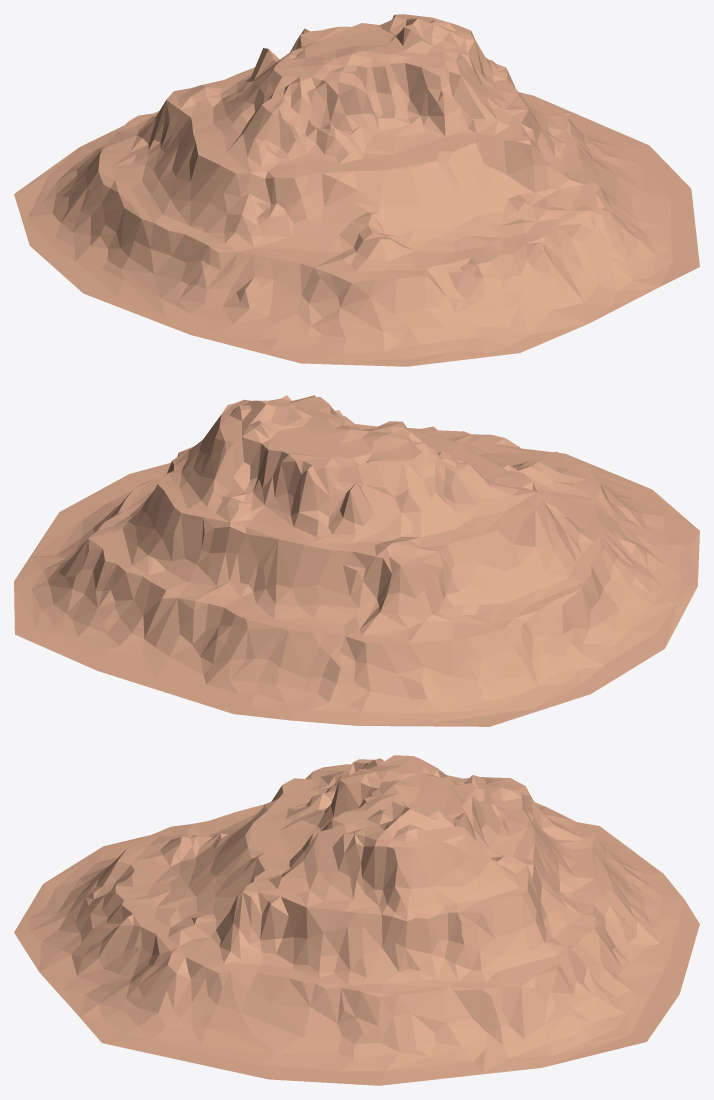
The model's file is MT_Mountain_L_b_25_LOD.fbx.
3 renders of one model, top to bottom at view 1: azimuth 30°, elevation 25°; view 2: azimuth 150°, elevation 25°; view 3: azimuth 270°, elevation 25°, orthographic. The views are drawn at different scales.
Parts seen in each view (by area): view 1: MT_Mountain_L_b_25_LOD0; view 2: MT_Mountain_L_b_25_LOD0; view 3: MT_Mountain_L_b_25_LOD0.
Part boxes in pixels (x1,y1,x2,y2): MT_Mountain_L_b_25_LOD0: (14,14,699,366); MT_Mountain_L_b_25_LOD0: (14,395,699,726); MT_Mountain_L_b_25_LOD0: (14,755,699,1085).
Size of what is drawn, in the model's own units: 8648 by 2416 by 8809.
